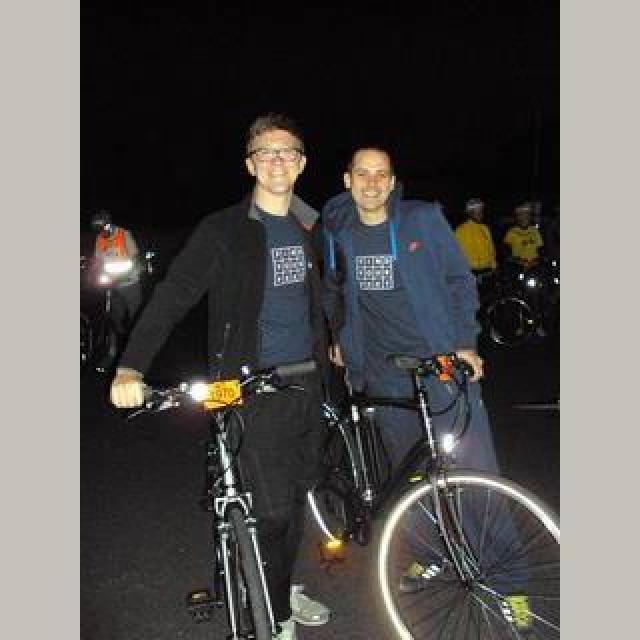MC-Bike: (310, 130, 486, 622), (106, 114, 326, 420), (452, 196, 498, 294), (500, 204, 546, 280)
Person: (304, 342, 552, 640), (114, 360, 304, 640)
